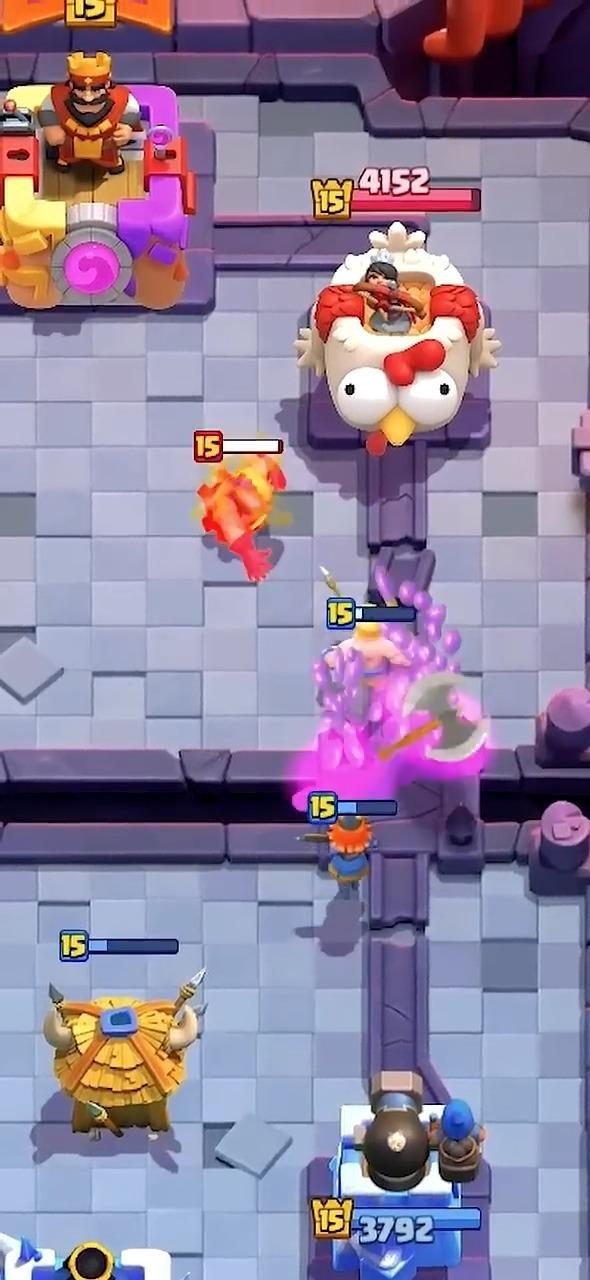barbarian: (325, 621, 409, 692)
executioner: (196, 450, 285, 582)
goblin hut: (43, 971, 204, 1137)
valkyrie: (316, 816, 373, 885)
